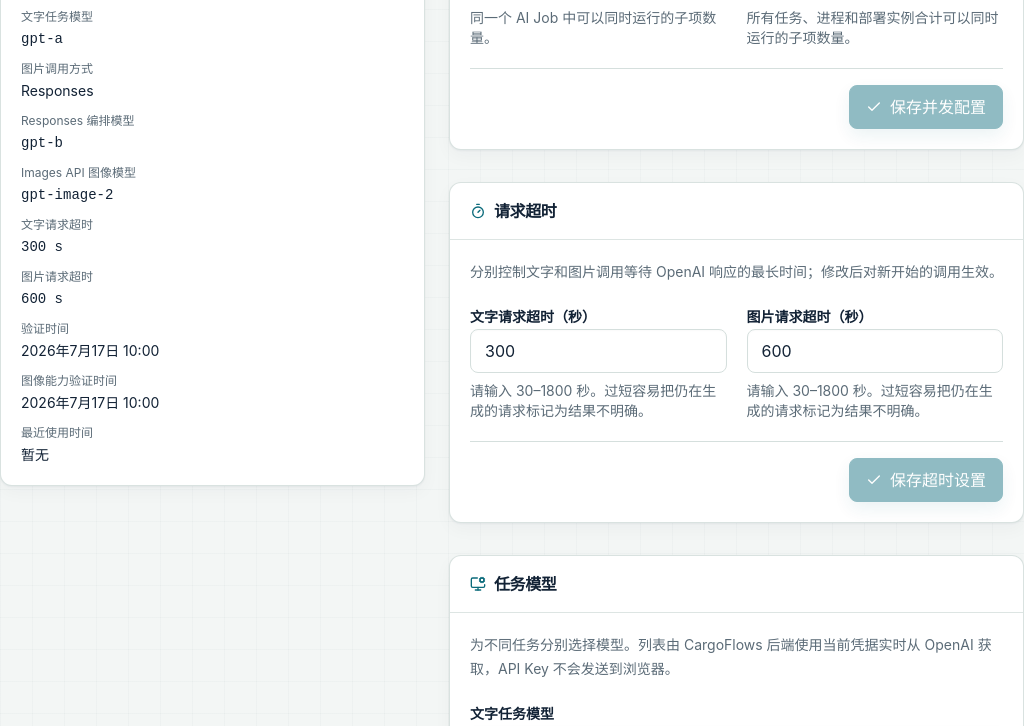
it: OpenAI settings › shows longer timeout defaults and saves validated text and image timeouts
This screenshot has width=1024, height=726.
(page scrolled)
Expected: the number field labelled "图片请求超时（秒）" holds "600", top-left (746, 329), bottom-right (1003, 373)
Replace the text in the number field labelled "文字请求超时（秒）" with "29" at (598, 351), box top-left (470, 329), bottom-right (726, 373)
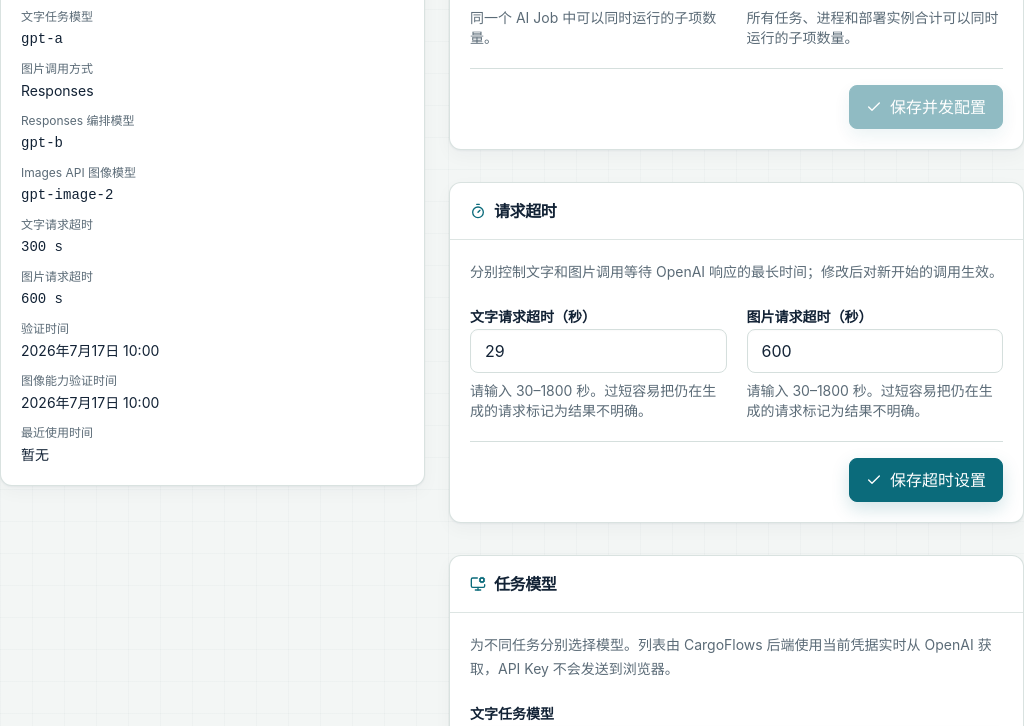
Leave the number field labelled "文字请求超时（秒）", box top-left (470, 329), bottom-right (726, 373)
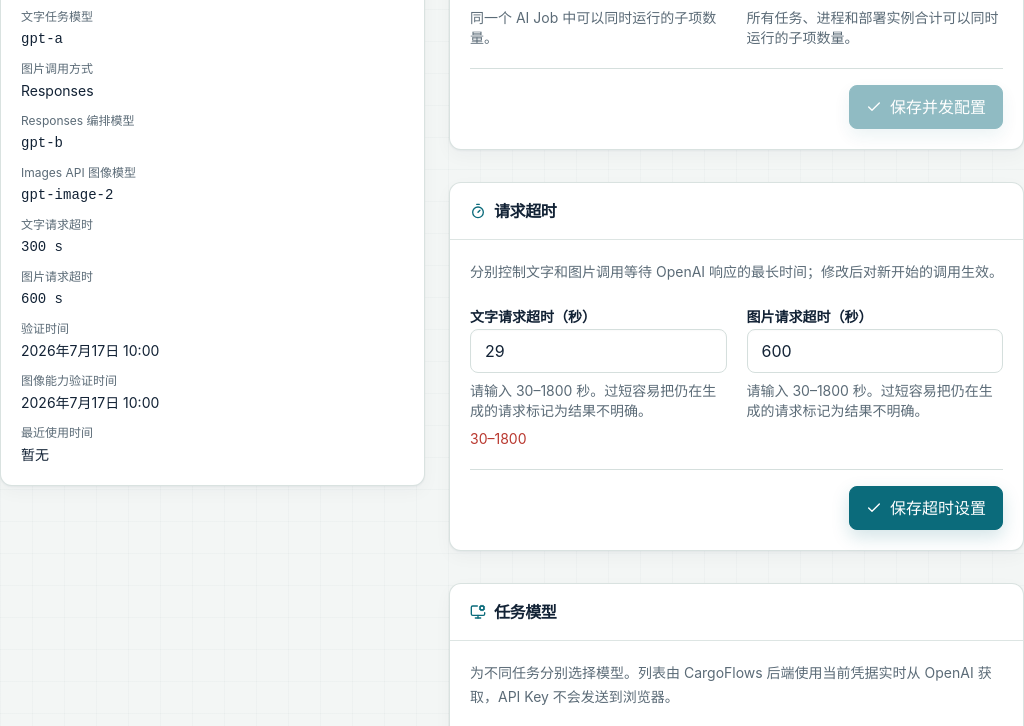
Now the text "30–1800" is shown, box top-left (470, 430), bottom-right (526, 447)
Replace the text in the number field labelled "文字请求超时（秒）" with "420" at (598, 351), box top-left (470, 329), bottom-right (726, 373)
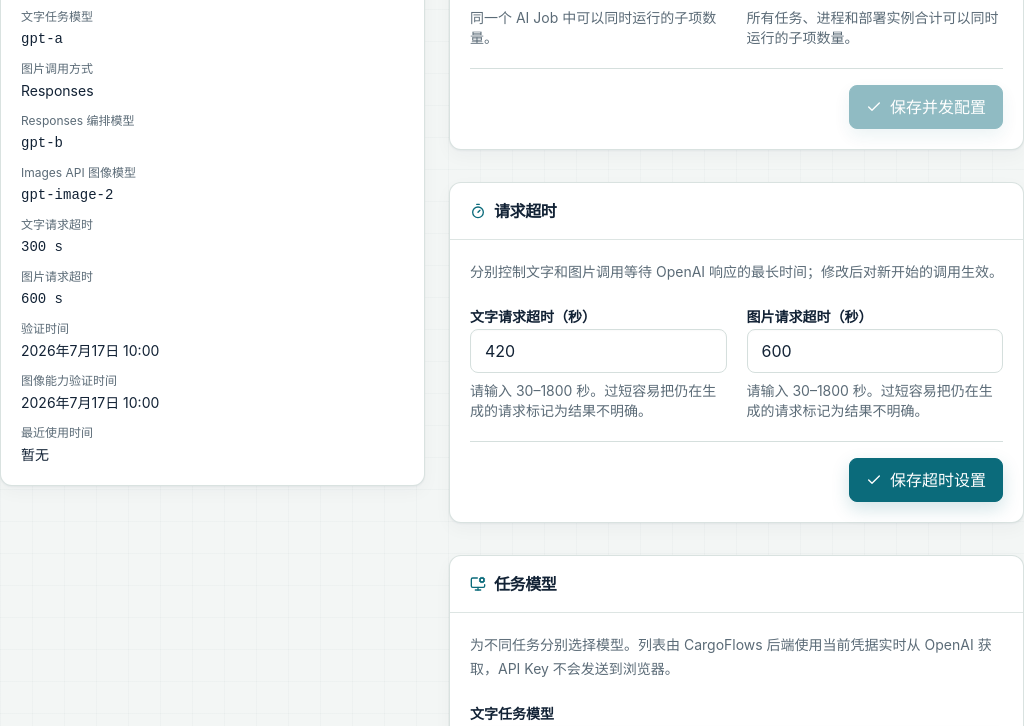
Replace the text in the number field labelled "图片请求超时（秒）" with "900" at (875, 351), box top-left (746, 329), bottom-right (1003, 373)
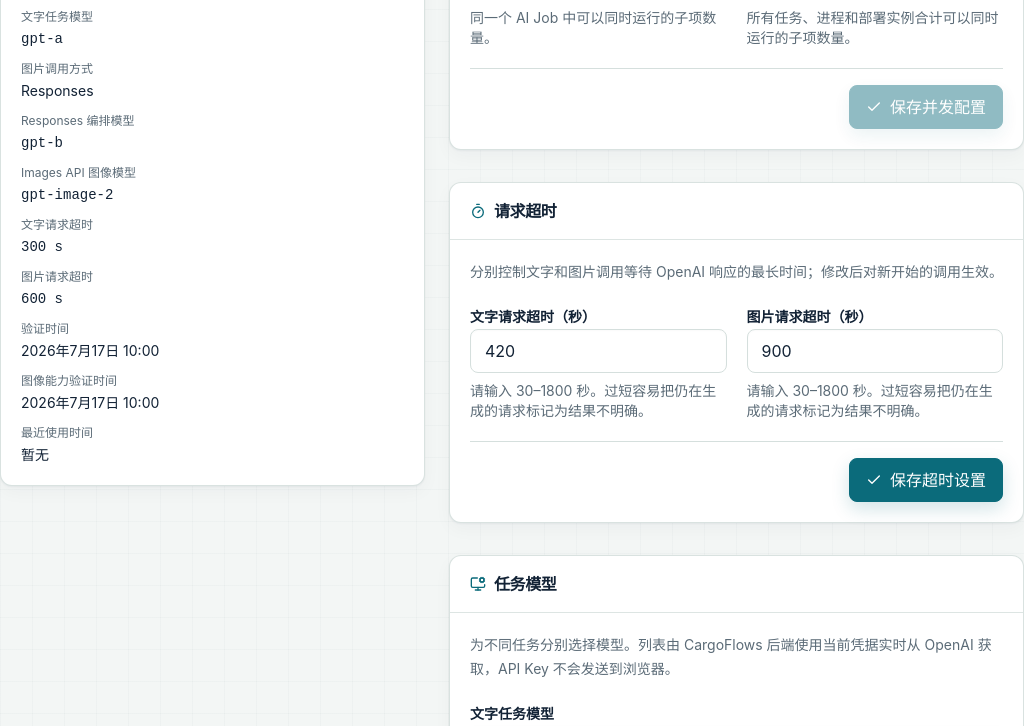
Click the button "保存超时设置" at (926, 480), box top-left (849, 458), bottom-right (1003, 502)
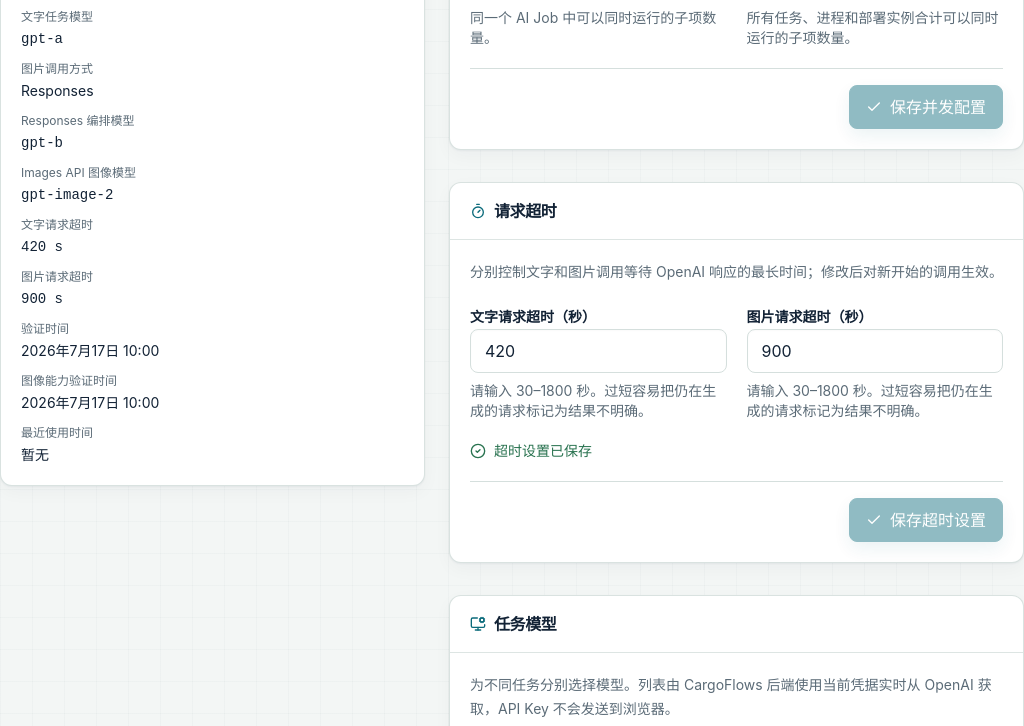
Now the text "超时设置已保存" is shown, box top-left (470, 442), bottom-right (592, 459)
